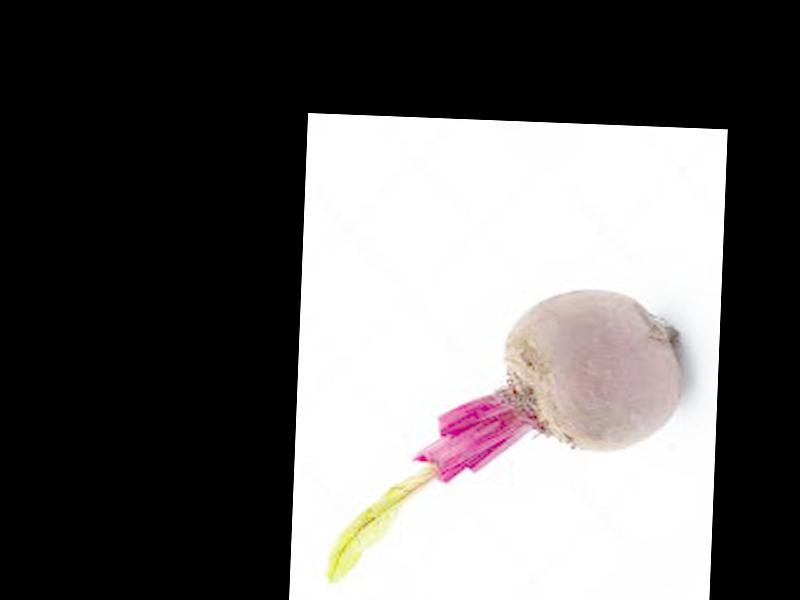Beet: (326, 278, 684, 593)
